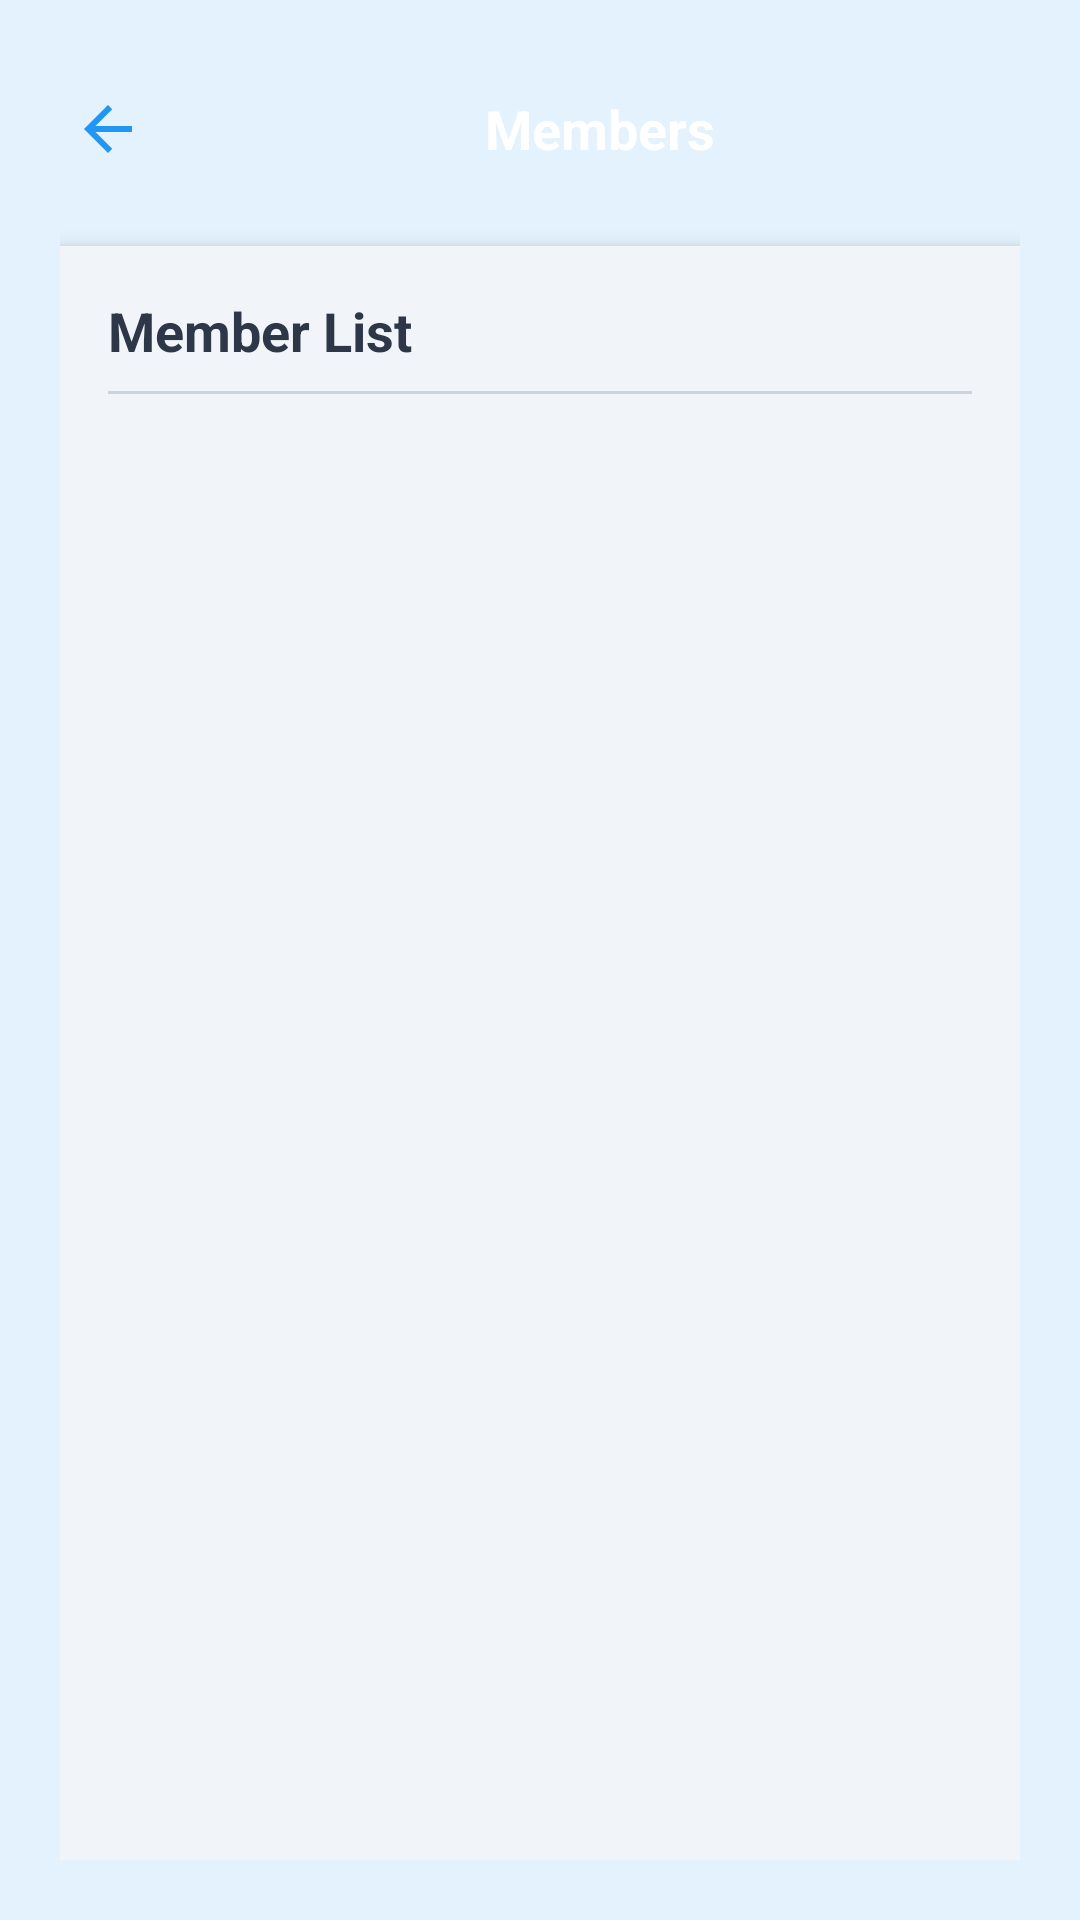

Named icons in this screenshot (1080×1920) and their centers, (x,y):
arrow back: (108,129)
